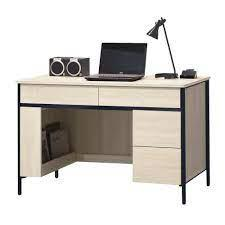desk: (7, 25, 219, 212)
